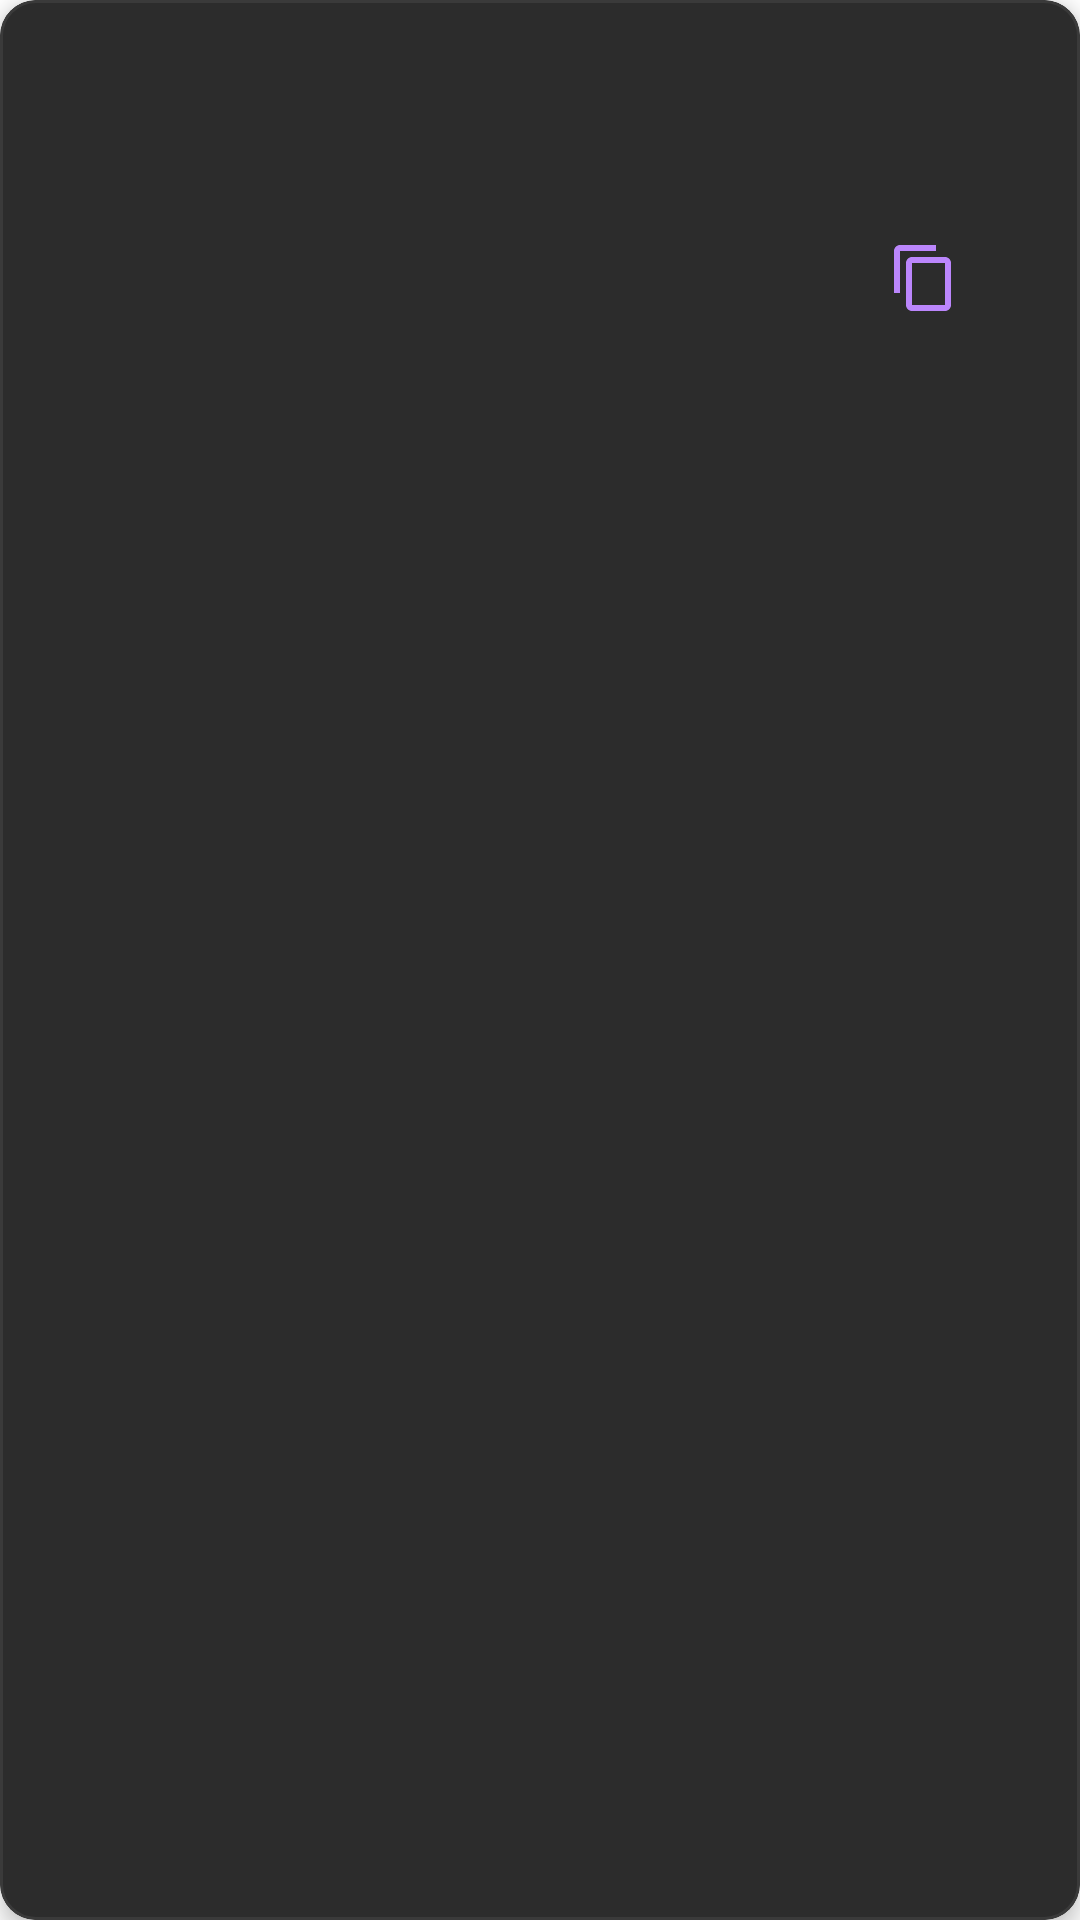

Icon bounding boxes for this 1080px×1920px phone screenshot, format (x1, y1, x2, y2):
Copy Quote: (894, 245, 951, 311)
